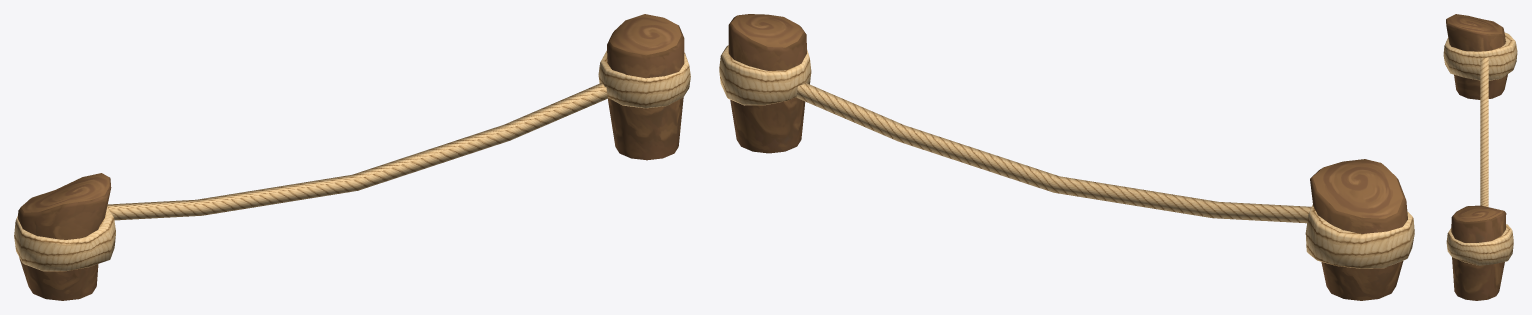
File: RopeFence2.fbx
The picture shows the model from 3 angles, left to right: view 1: azimuth 30°, elevation 25°; view 2: azimuth 150°, elevation 25°; view 3: azimuth 270°, elevation 25°; orthographic projection. The views are drawn at different scales.
Visible parts, largest first — view 1: fenceShort; view 2: fenceShort; view 3: fenceShort.
Boxes of the visible parts, x1,y1,x2,y2 form: fenceShort: (14,14,690,300); fenceShort: (719,14,1414,300); fenceShort: (1443,14,1517,300).
Size of the model in its own units: 54.55 by 9.11 by 7.39.
